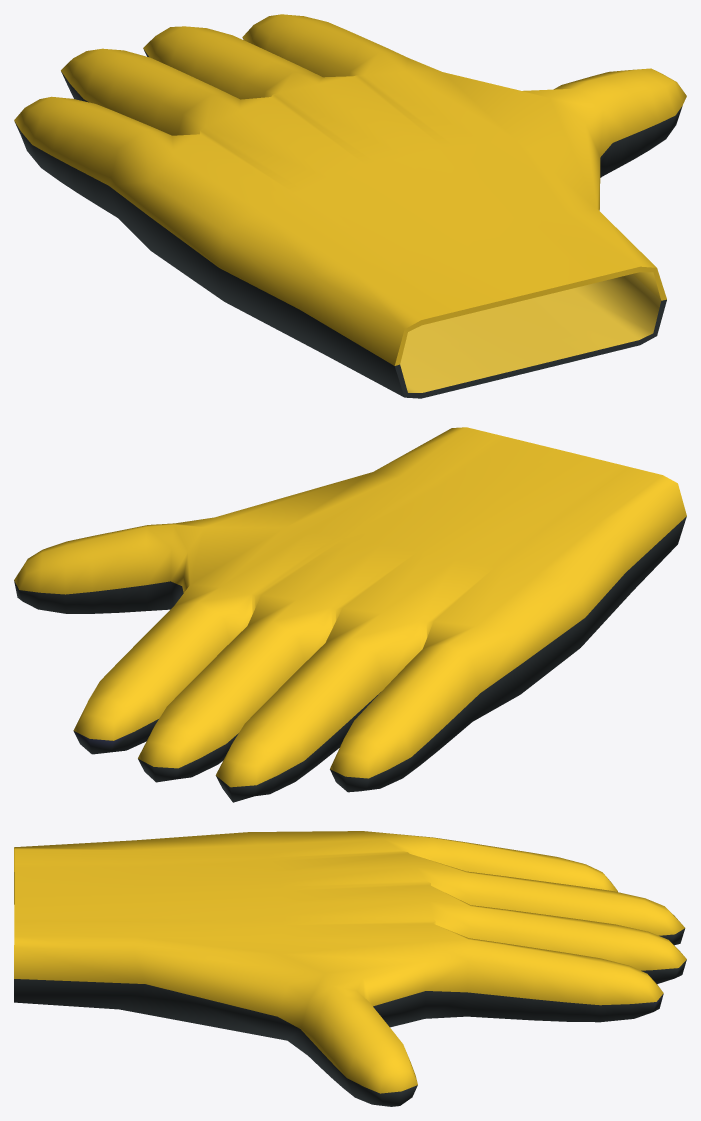
File: Gloves.fbx
3 views of the same model, one above another, from view 1: azimuth 30°, elevation 25°; view 2: azimuth 150°, elevation 25°; view 3: azimuth 270°, elevation 25° (orthographic). The views are drawn at different scales.
Visible parts, largest first — view 1: pCube7; view 2: pCube7; view 3: pCube7.
Part boxes in pixels (box(x1,y1,x2,y2)): pCube7: box(14, 14, 686, 398); pCube7: box(14, 427, 686, 802); pCube7: box(14, 831, 686, 1106).
Bounding box in the file's own units: 1.22 × 0.2242 × 1.59.
Materials: 1 (1 with a texture image).
